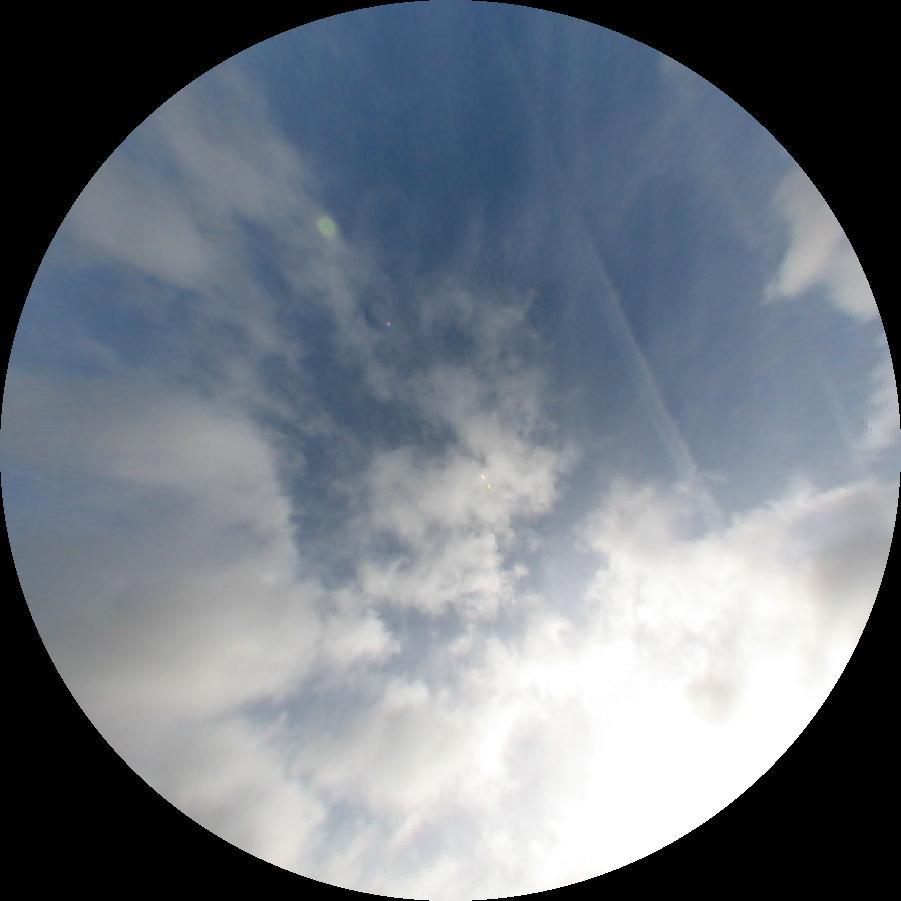contrail veryold: (494, 6, 731, 532), (668, 97, 871, 478)
contrail young: (3, 464, 58, 487)
sun: (606, 722, 798, 867)
